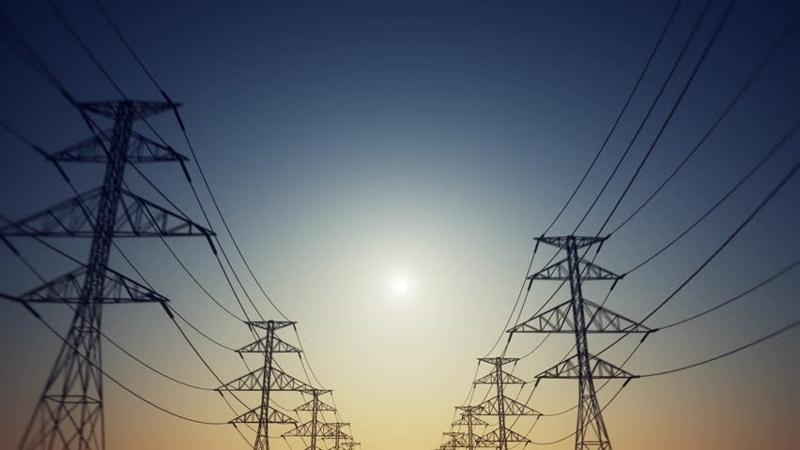power_tower: (0, 87, 220, 450), (505, 232, 659, 450), (213, 314, 311, 449), (464, 354, 542, 450), (289, 383, 342, 450), (451, 401, 485, 450), (317, 421, 356, 450), (440, 429, 468, 450), (339, 439, 364, 450)
